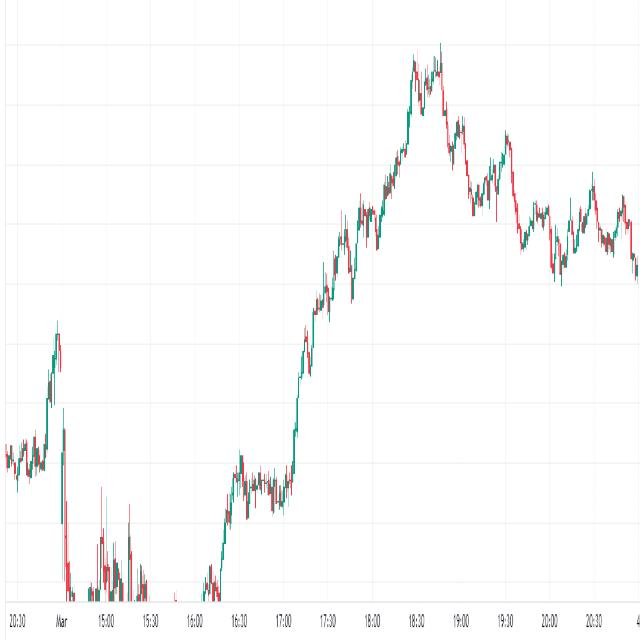Double-Top: (401, 35, 454, 141)
